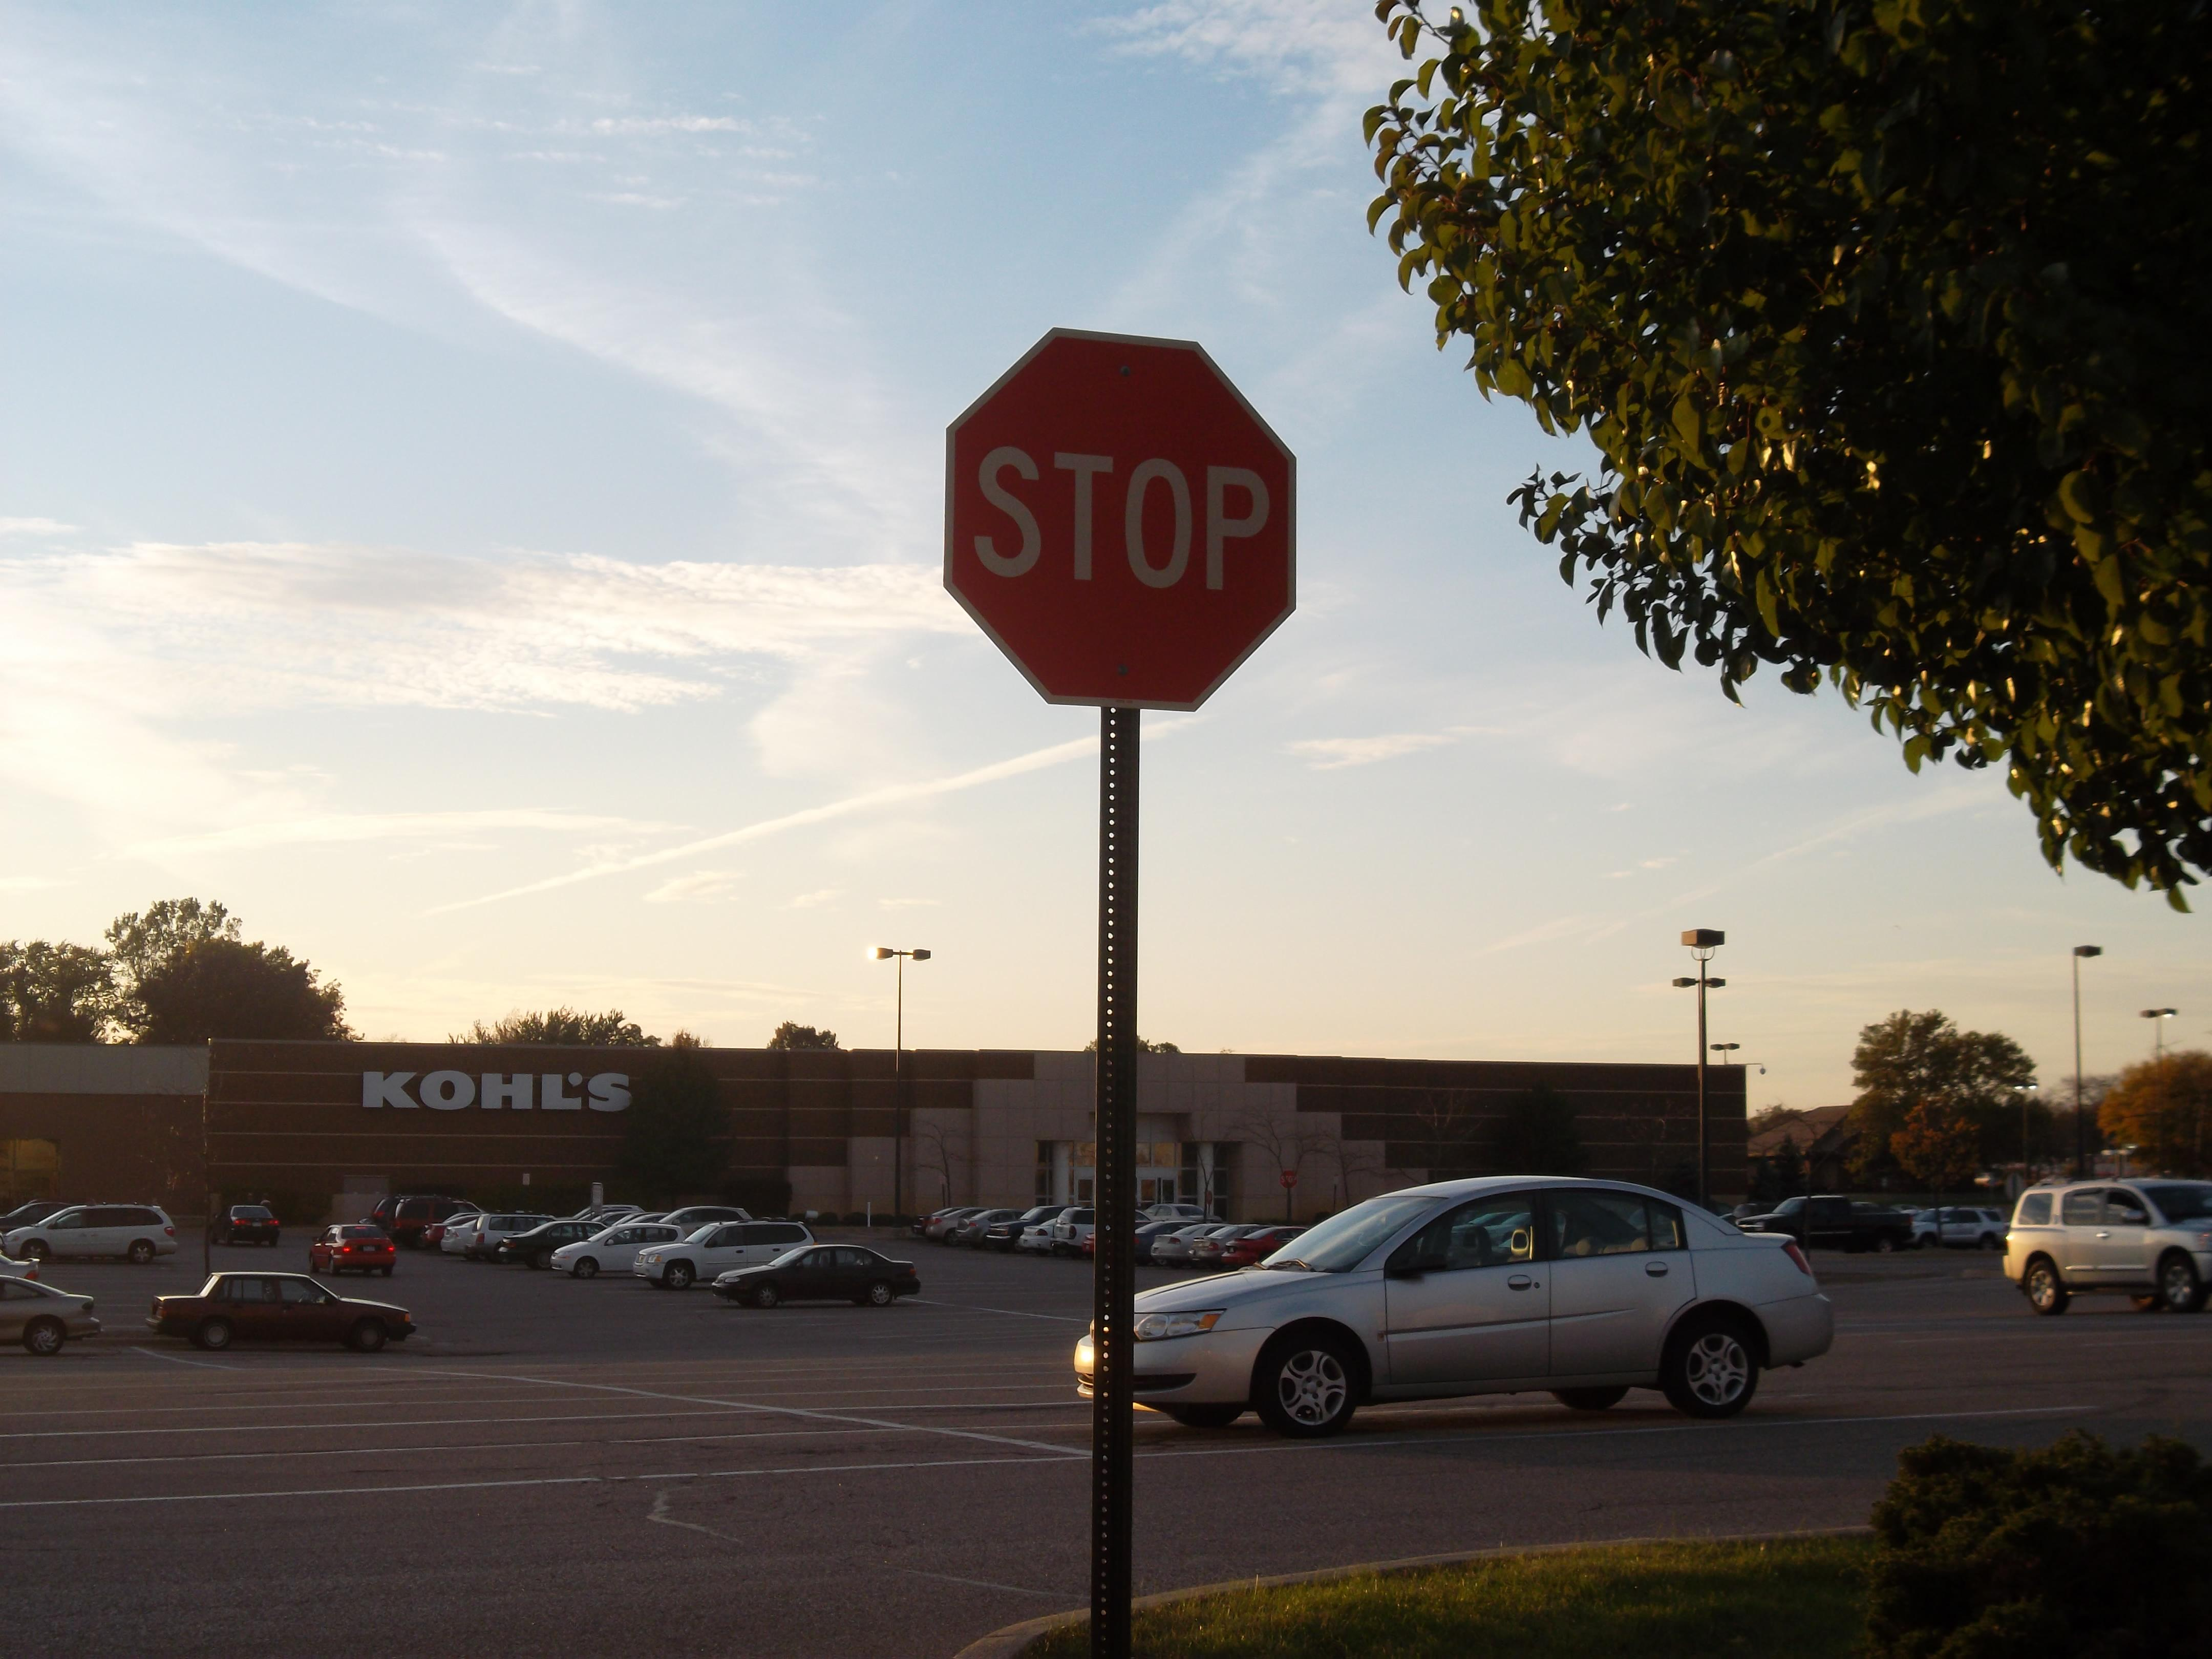stop: (927, 303, 1306, 728)
